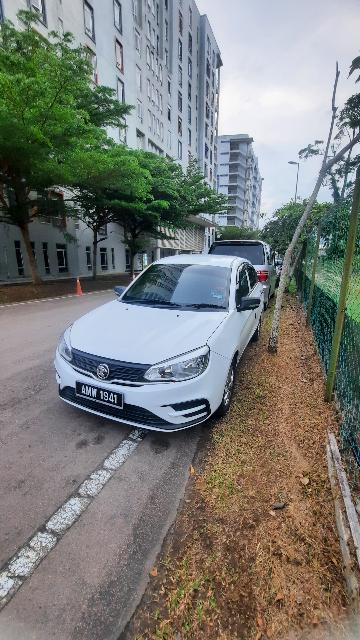License_Plate: (70, 377, 127, 416)
car: (53, 248, 277, 440)
